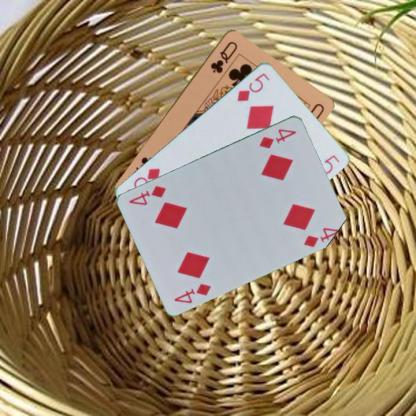4d: (256, 125, 298, 150), (172, 280, 212, 305)
5d: (234, 70, 272, 102)
Qc: (208, 38, 238, 75)
